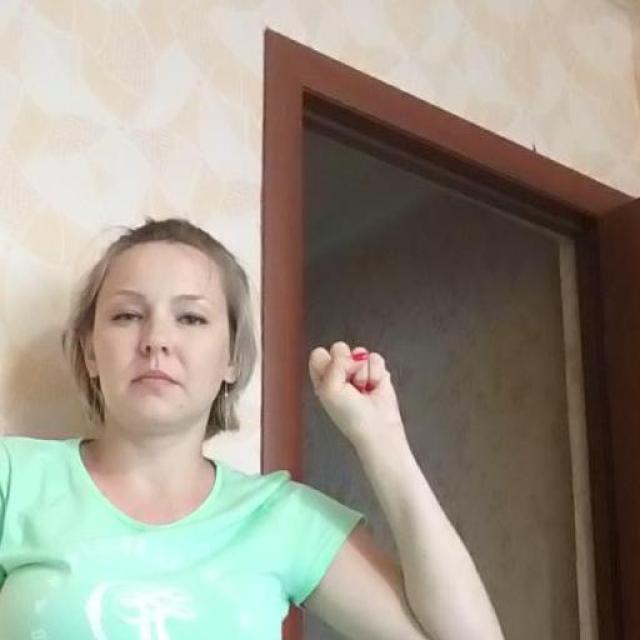hand: (308, 339, 408, 451)
